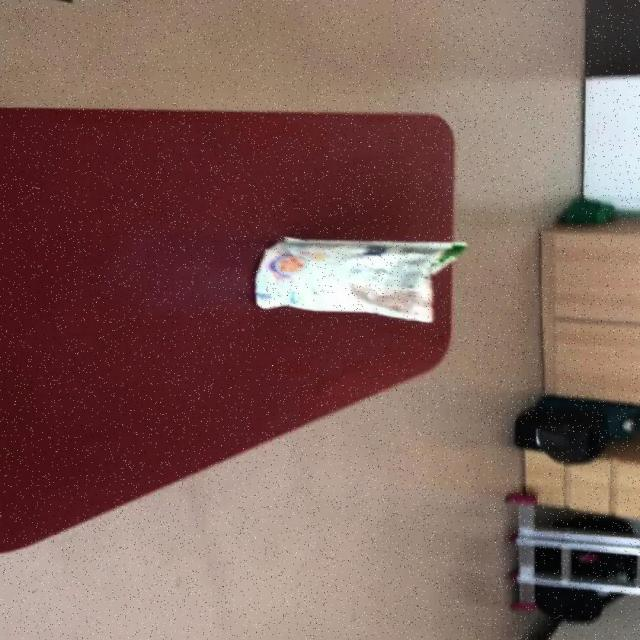CornFlakes: (255, 235, 470, 323)
